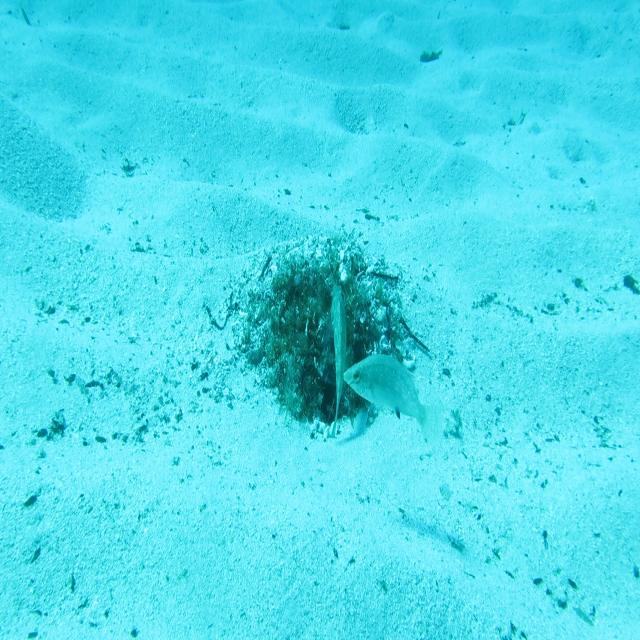FAN: (323, 278, 355, 442)
core_nest: (295, 278, 341, 308)
female: (342, 350, 446, 454)
nest: (226, 217, 424, 448)
vegetation: (621, 272, 640, 296), (418, 51, 444, 66)
